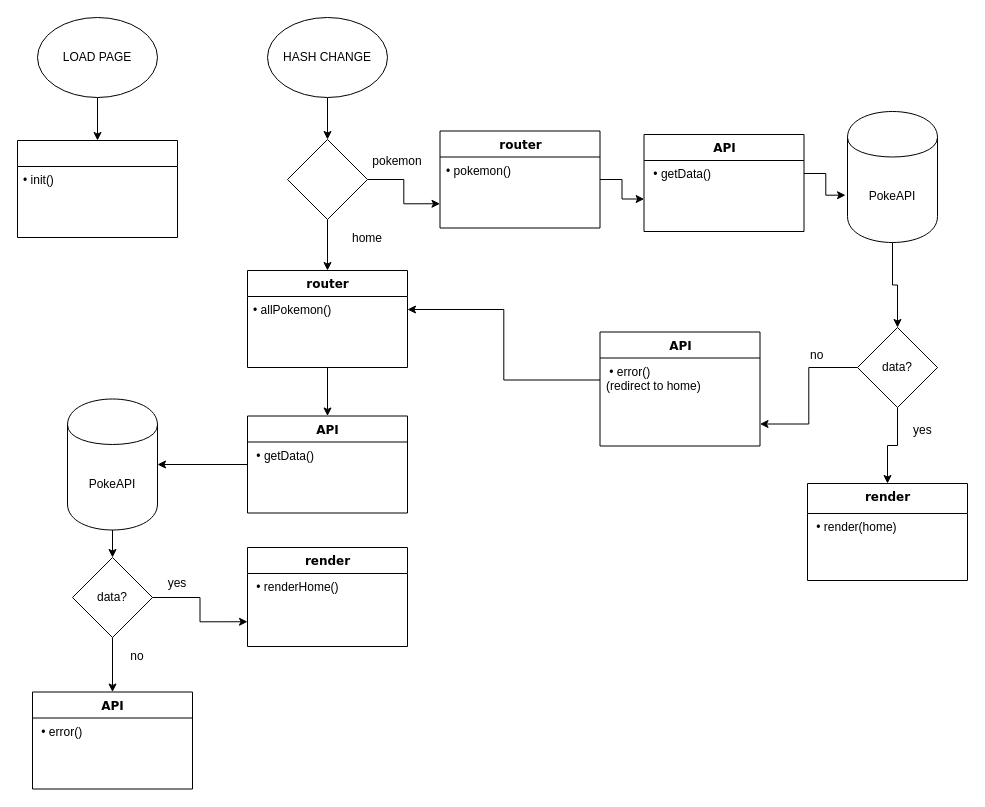
The diagram is 985 pixels wide and 807 high, and some of its shapes have lost their labels. The box of each missing label's shape, as (x1, y1, x2, y2) in pixels:
app.js: (16, 140, 178, 238)
hash: (286, 138, 368, 220)
